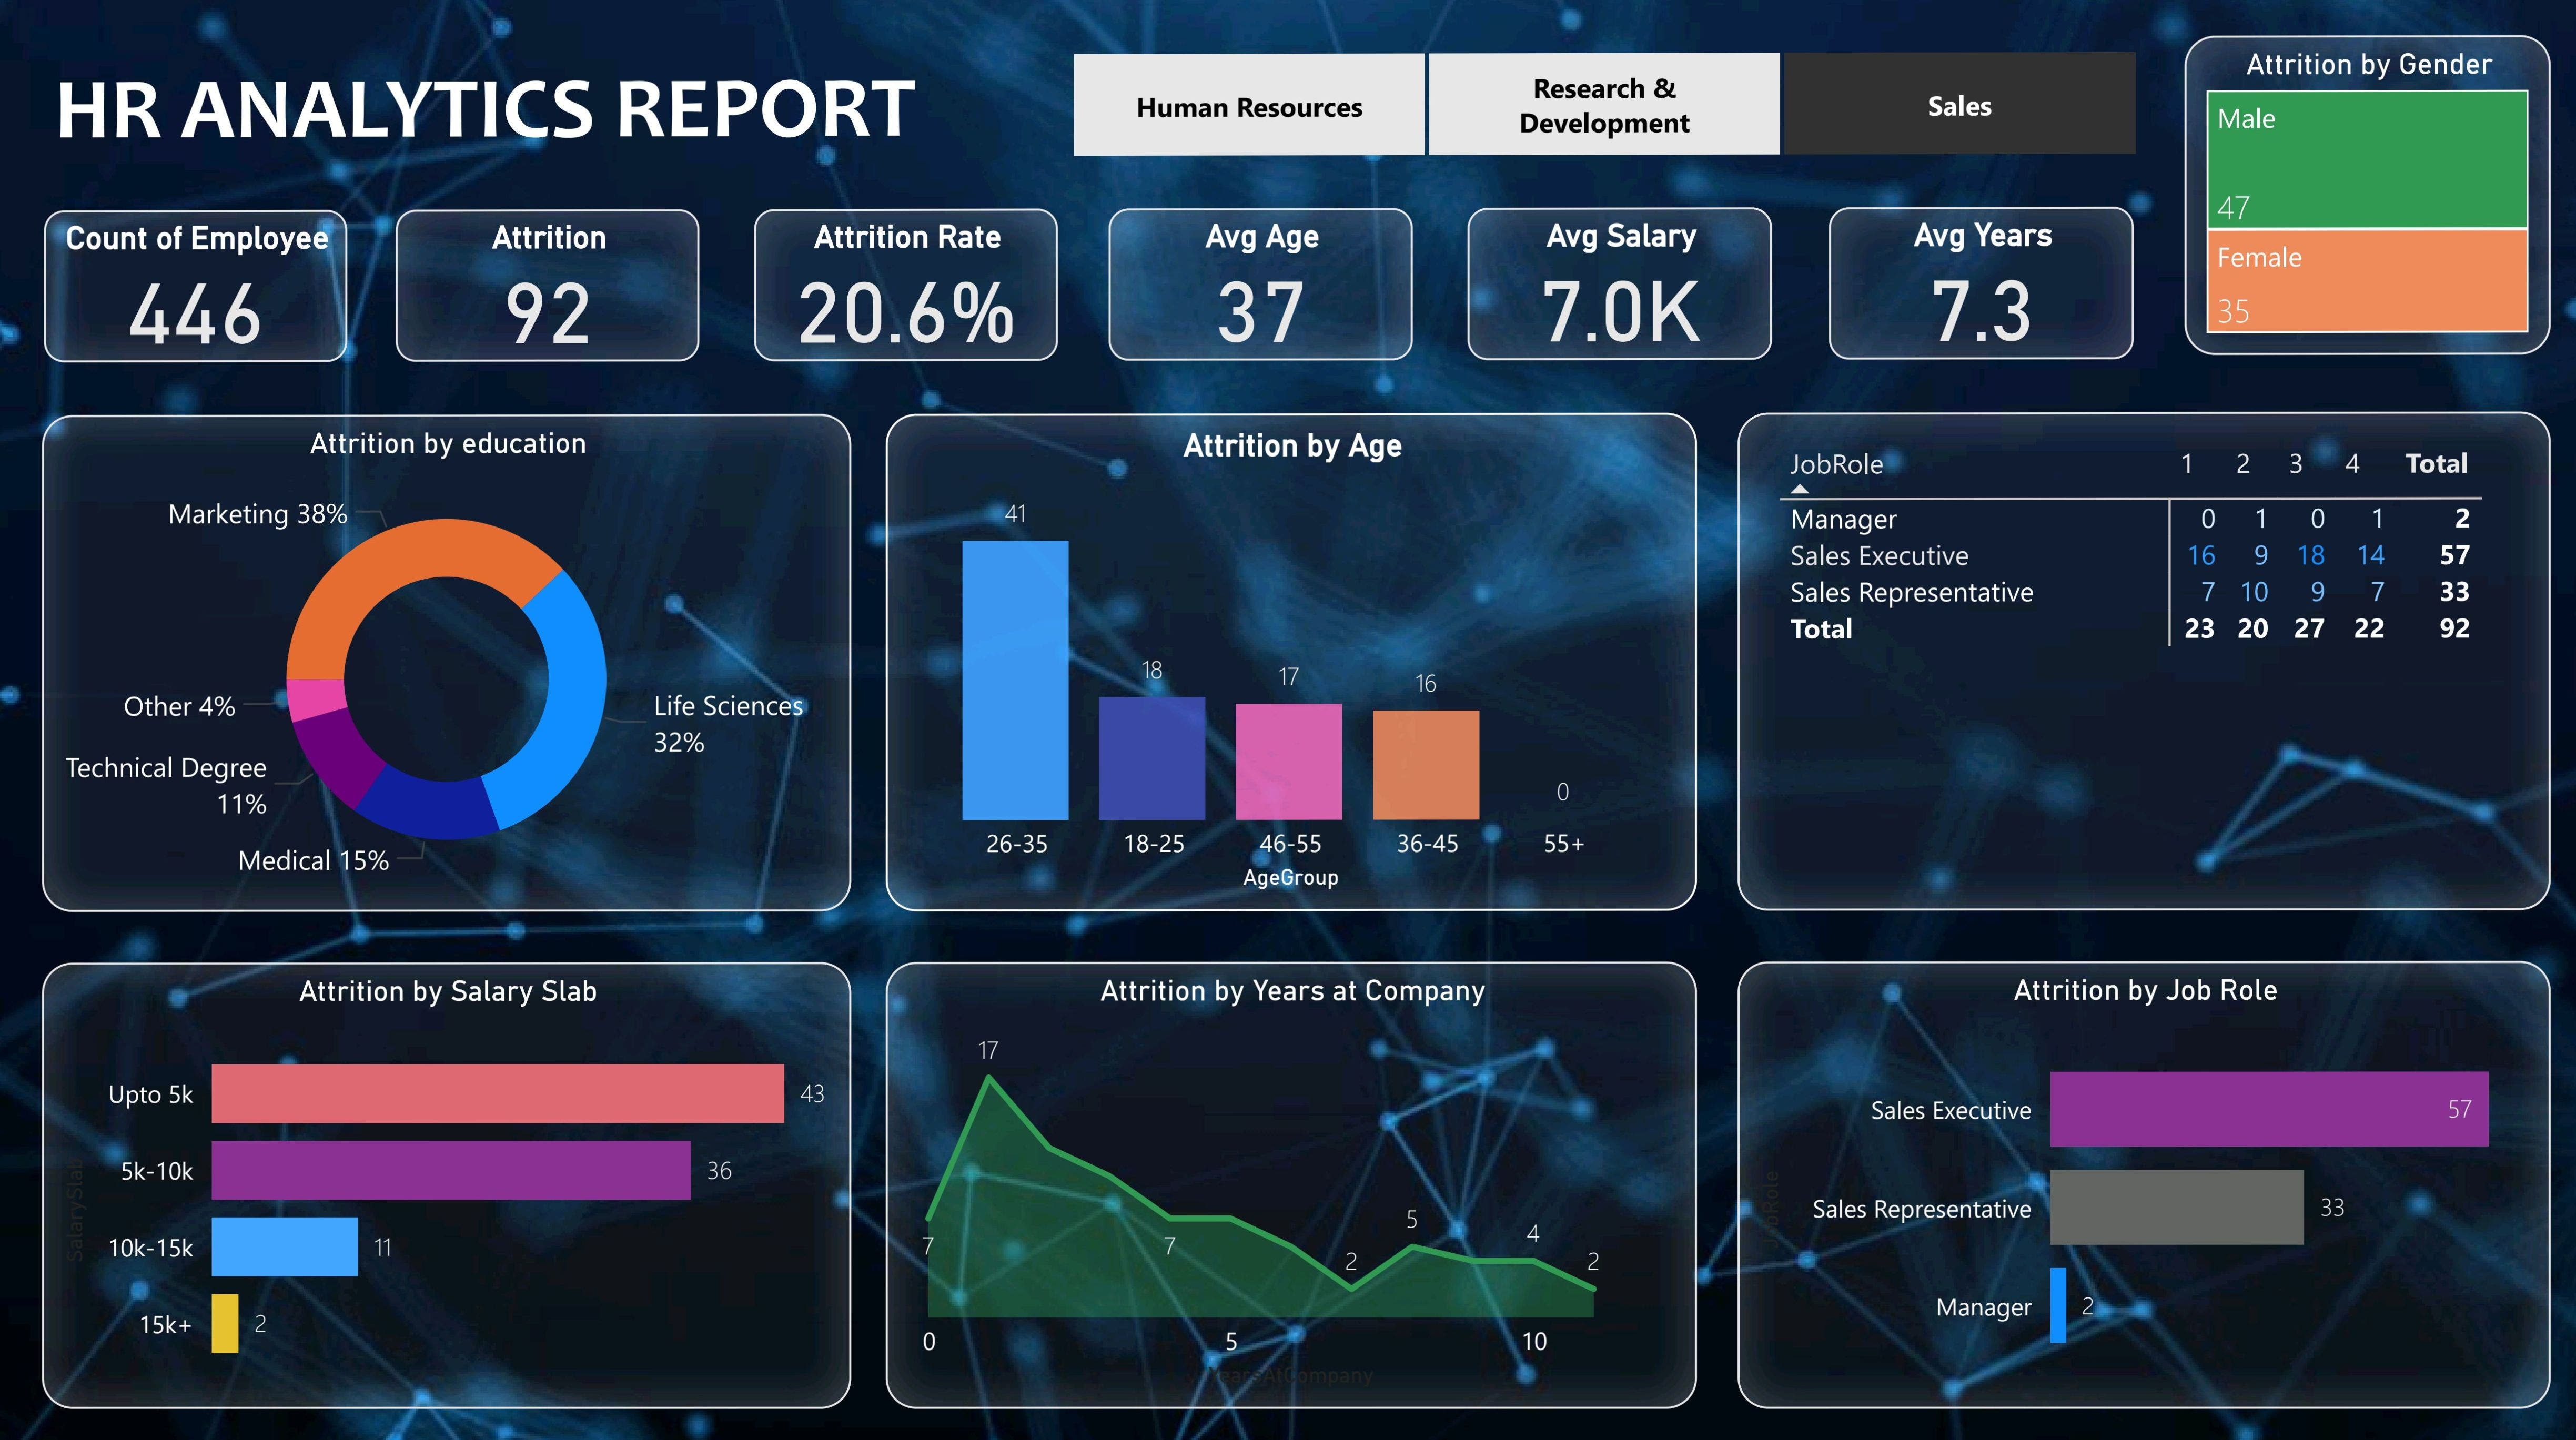

What the dashboard file says about the page in this screenshot:
{"tool":"powerbi","page":{"name":"Page 1","canvas":[1280,720],"ordinal":0},"visuals":[{"type":"card","title":"Count of Employee","fields":{"Values":["CountNonNull(HR_Analytics.EmpID)"]},"box":[23.9,106,150,74.8],"z":0},{"type":"card","title":"Attrition","fields":{"Values":["Sum(HR_Analytics.AttritionCount)"]},"box":[198,106,150,74.8],"z":1000},{"type":"card","title":"Attrition Rate","fields":{"Values":["HR_Analytics.Attrition rate"]},"box":[375,106,150,74.8],"z":2000},{"type":"card","title":"Avg Age","fields":{"Values":["Avg(HR_Analytics.Age)"]},"box":[550,106,150,74.8],"z":3000},{"type":"card","title":"Avg Salary","fields":{"Values":["Avg(HR_Analytics.MonthlyIncome)"]},"box":[727,106,150,74.8],"z":4000},{"type":"card","title":"Avg Years","fields":{"Values":["Avg(HR_Analytics.YearsAtCompany)"]},"box":[905,106,150,74.8],"z":5000},{"type":"donutChart","title":"Attrition by education","fields":{"Category":["HR_Analytics.EducationField"],"Y":["Sum(HR_Analytics.AttritionCount)"]},"box":[23.3,207,400,245],"z":6000},{"type":"columnChart","title":"Attrition by Age","fields":{"Category":["HR_Analytics.AgeGroup"],"Y":["Sum(HR_Analytics.AttritionCount)"]},"box":[440,207,400,245],"z":7000},{"type":"pivotTable","fields":{"Rows":["HR_Analytics.JobRole"],"Columns":["HR_Analytics.JobSatisfaction"],"Values":["Sum(HR_Analytics.AttritionCount)"]},"box":[860,206.7,400,245],"z":8000},{"type":"barChart","title":"Attrition by Salary Slab","fields":{"Category":["HR_Analytics.SalarySlab"],"Y":["Sum(HR_Analytics.AttritionCount)"]},"box":[23.3,476.7,400,220],"z":9000},{"type":"barChart","title":"Attrition by Job Role","fields":{"Category":["HR_Analytics.JobRole","HR_Analytics.SalarySlab"],"Y":["Sum(HR_Analytics.AttritionCount)"]},"box":[860,476.7,400,220],"z":10000},{"type":"areaChart","title":"Attrition by Years at Company","fields":{"Category":["HR_Analytics.YearsAtCompany"],"Y":["Sum(HR_Analytics.AttritionCount)"]},"box":[440,476.7,400,220],"z":11000},{"type":"treemap","title":"Attrition by Gender","fields":{"Group":["HR_Analytics.Gender"],"Values":["Sum(HR_Analytics.AttritionCount)"]},"box":[1080,22,179.7,157.5],"z":12000},{"type":"slicer","fields":{"Values":["HR_Analytics.Department"]},"box":[506.7,23.3,573.3,63.3],"z":13000},{"type":"textbox","box":[23.9,23.9,459.7,63.6],"z":14000}]}

Visuals, with their boxes in screenshot pixels (x1, y1, x2, y2), scaled from the page's 1280x720 canvas onto the 2576x1440 screenshot:
"Count of Employee" card: (48, 212, 350, 362)
"Attrition" card: (399, 212, 700, 362)
"Attrition Rate" card: (755, 212, 1057, 362)
"Avg Age" card: (1107, 212, 1409, 362)
"Avg Salary" card: (1463, 212, 1765, 362)
"Avg Years" card: (1821, 212, 2123, 362)
"Attrition by education" donutChart: (47, 414, 852, 904)
"Attrition by Age" columnChart: (885, 414, 1691, 904)
pivotTable - HR_Analytics.JobRole x HR_Analytics.JobSatisfaction: (1731, 413, 2535, 904)
"Attrition by Salary Slab" barChart: (47, 954, 852, 1393)
"Attrition by Job Role" barChart: (1731, 954, 2535, 1393)
"Attrition by Years at Company" areaChart: (885, 954, 1691, 1393)
"Attrition by Gender" treemap: (2174, 44, 2535, 359)
slicer - HR_Analytics.Department: (1020, 47, 2174, 173)
textbox: (48, 48, 973, 175)
